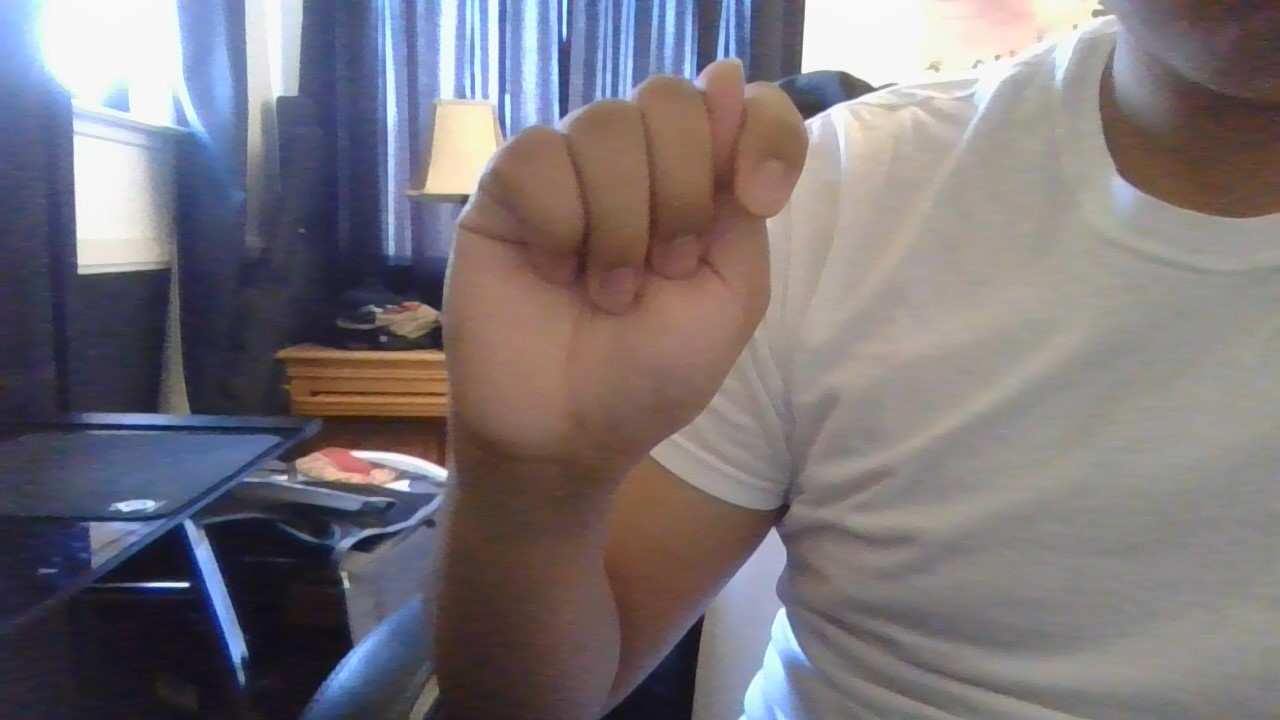t: (428, 44, 822, 498)
